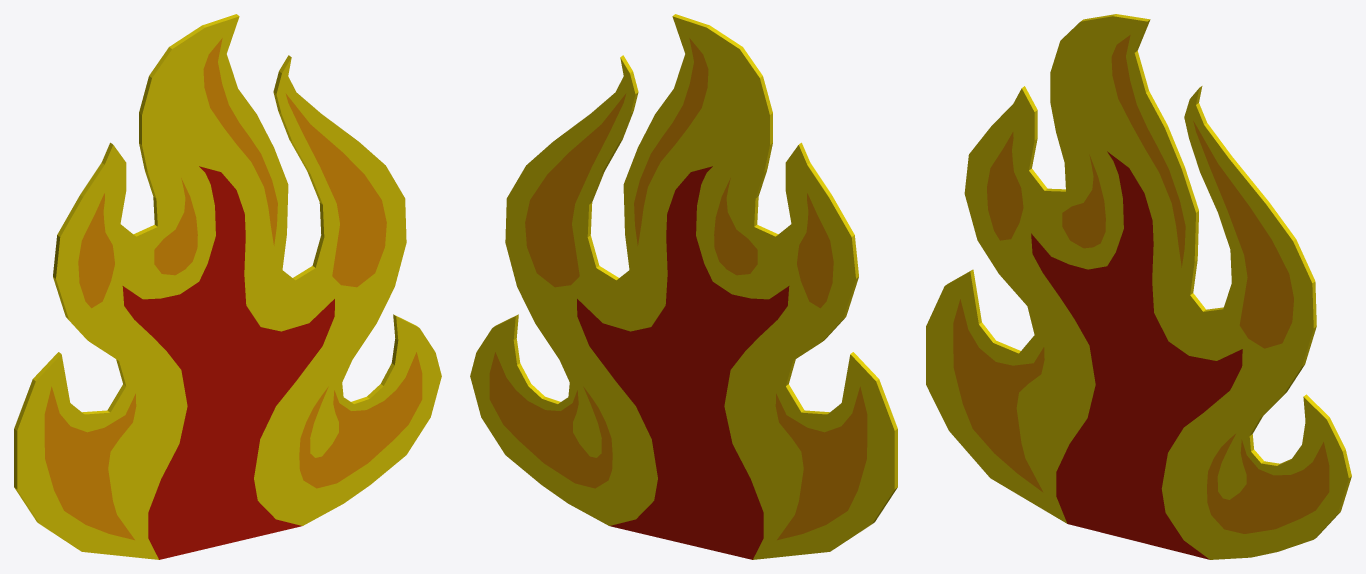
Rendered from flames_hot.fbx.
The picture shows the model from 3 angles, left to right: view 1: azimuth 30°, elevation 25°; view 2: azimuth 150°, elevation 25°; view 3: azimuth 330°, elevation 25°; orthographic projection.
Parts seen in each view (by area): view 1: Flame3; view 2: Flame3; view 3: Flame3.
Part boxes in pixels (x1,y1,x2,y2): Flame3: (14,14,441,559); Flame3: (470,14,897,559); Flame3: (926,14,1351,559).
Size of the model in its own units: 173 by 204 by 2.18.
